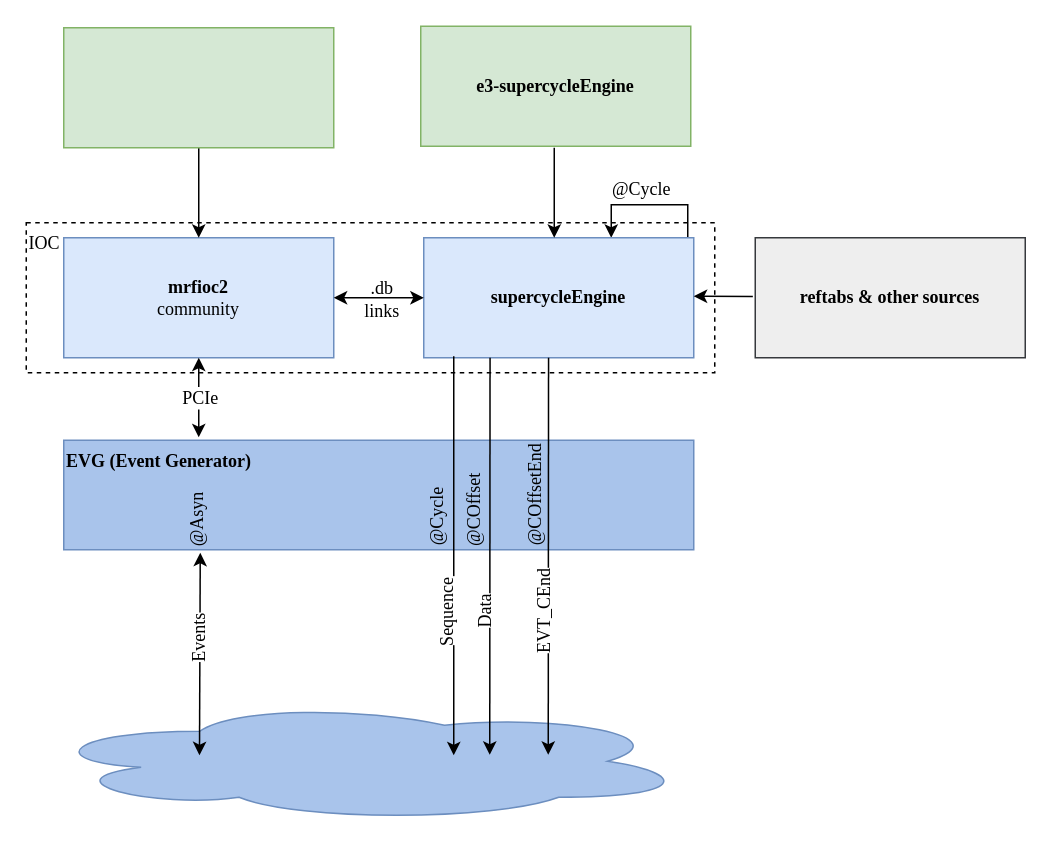
This 1052x848 diagram has some shape labels left out. Each missing label, with the centre of its shape:
"e3-mrfioc2" belongs at point 198,87.
"Timing Network" belongs at point 362,760.
